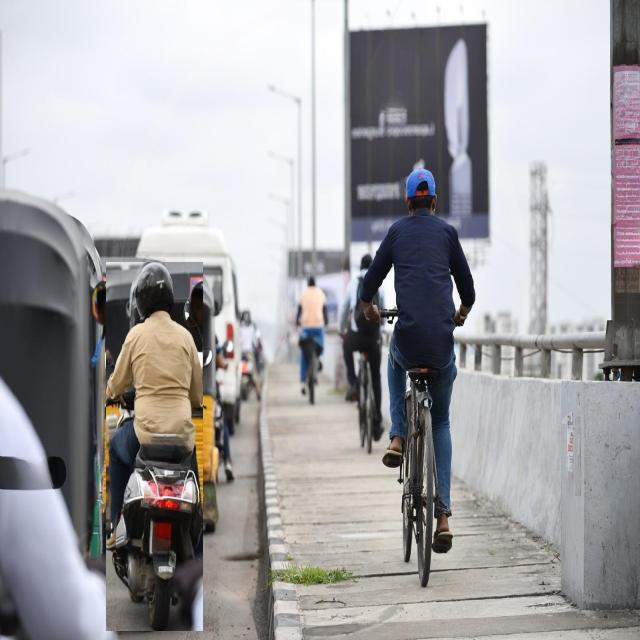bicycle: (360, 169, 475, 586)
motorcycle: (106, 262, 202, 631)
